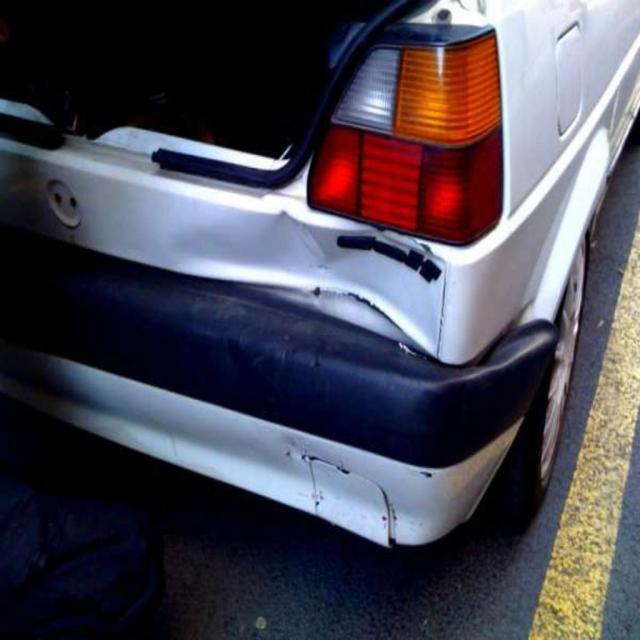Damage: (25, 100, 602, 630)
